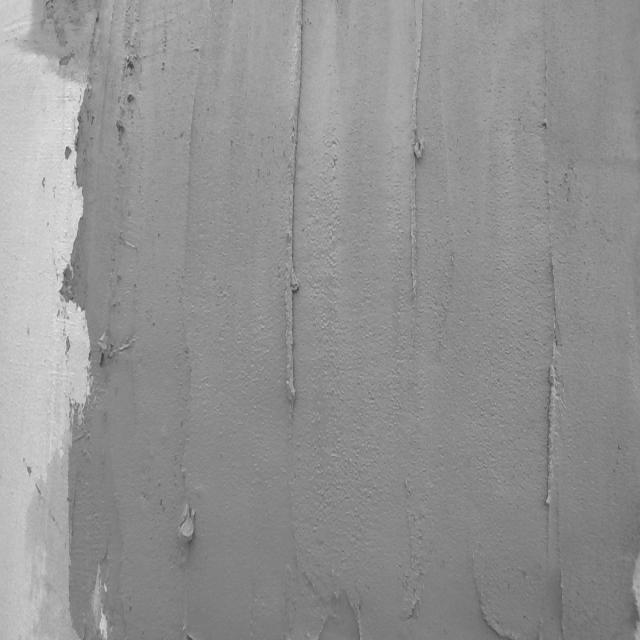trowels marks: (282, 7, 310, 432), (542, 59, 557, 590), (404, 12, 423, 312)
